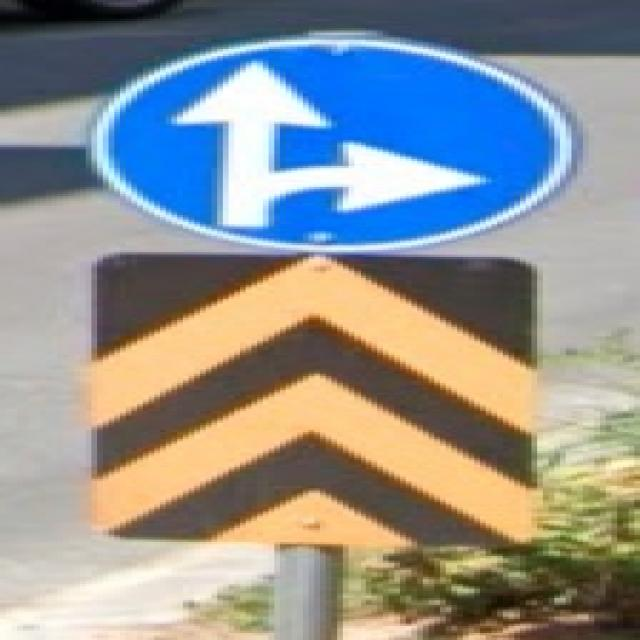Straight or Right: (101, 35, 581, 250)
